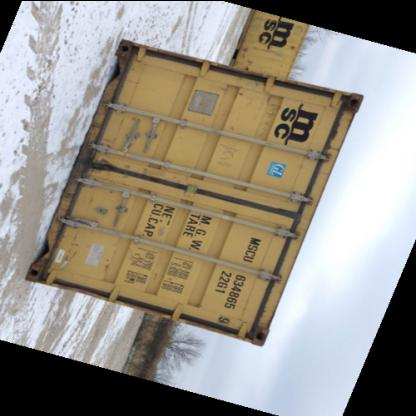Damage: (78, 137, 122, 178), (242, 294, 278, 344), (327, 96, 364, 140), (257, 94, 283, 140), (65, 224, 89, 268), (214, 138, 243, 170), (100, 251, 118, 278), (218, 84, 246, 98)
